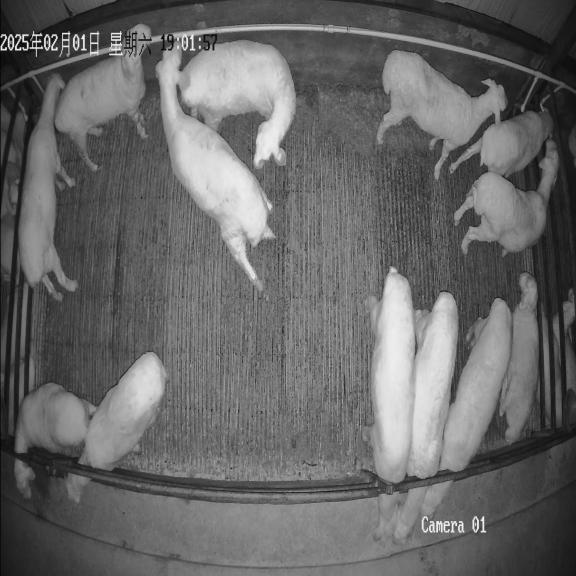drinking: (449, 109, 553, 177)
eating: (420, 298, 513, 517), (393, 292, 458, 542), (65, 352, 168, 503), (362, 267, 416, 540), (14, 382, 97, 498)
lying: (499, 272, 539, 443)
stand: (156, 42, 275, 292), (377, 50, 507, 179), (178, 40, 296, 169), (54, 24, 151, 171), (17, 74, 77, 302), (454, 140, 559, 256)
